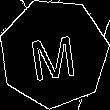M_N: (27, 25, 80, 81)
